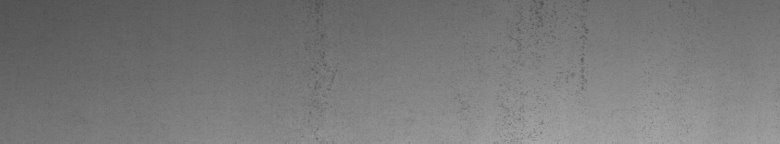ib: (509, 4, 589, 80)
